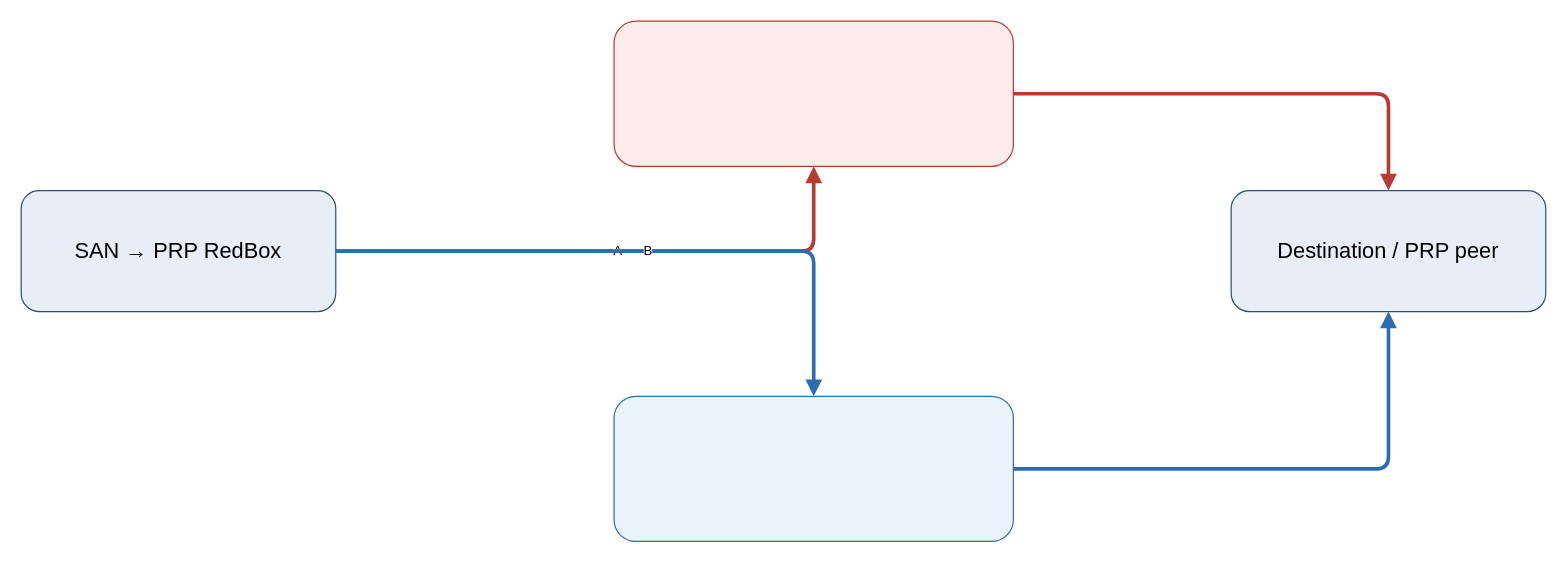
Some shapes in this 1567 by 563 pixel diagram are drawn without their labels. The centre of each missing label's shape, as x and y in pixels:
"LAN A — FAILED" belongs at pixel 813 93.
"LAN B — healthy" belongs at pixel 813 468.
